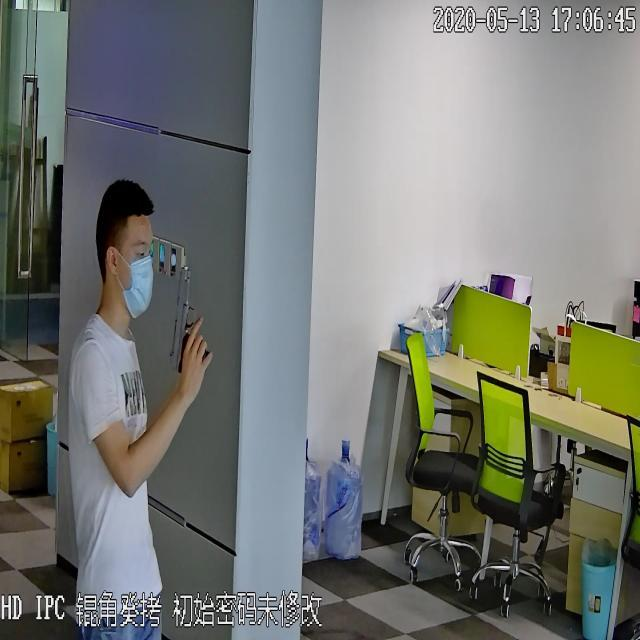gun: (165, 264, 211, 378)
